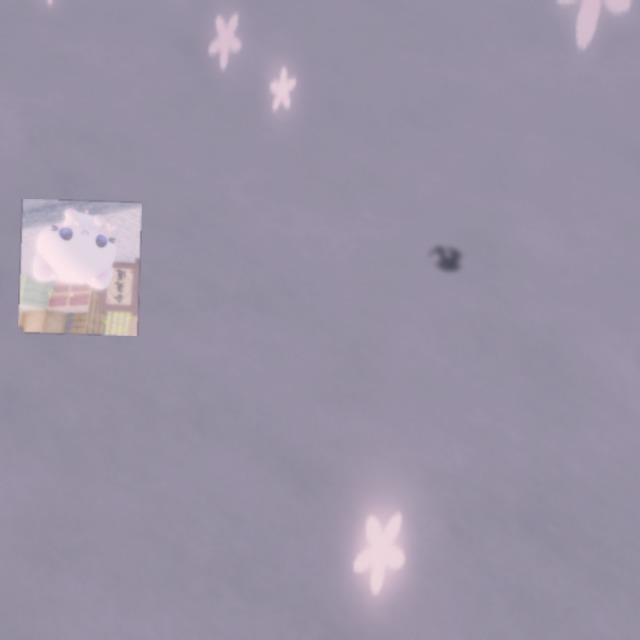urso_branco: (18, 199, 142, 336)
urso_preto: (419, 236, 473, 283)
